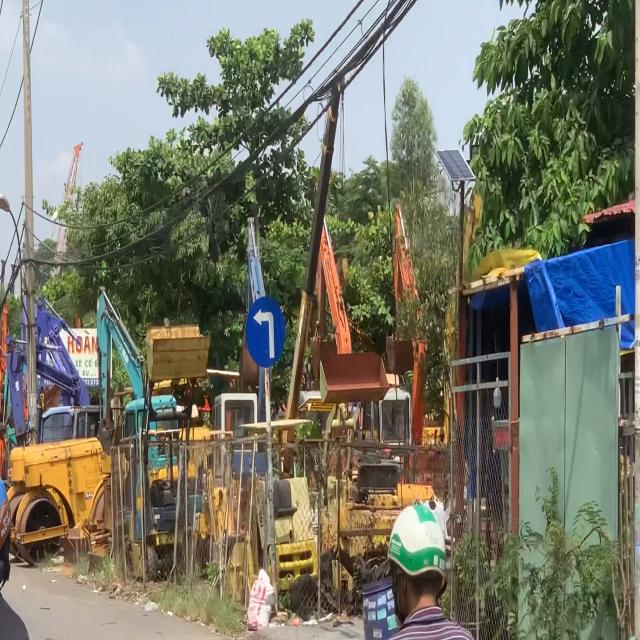Re trai: (244, 293, 287, 371)
